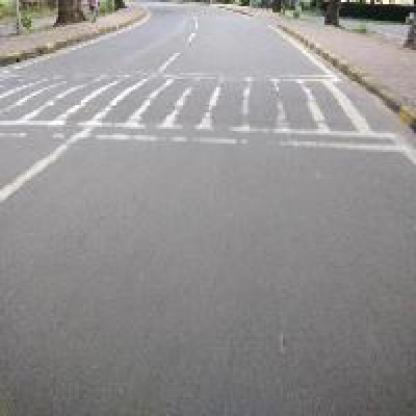Speed Bump: (2, 73, 377, 135)
